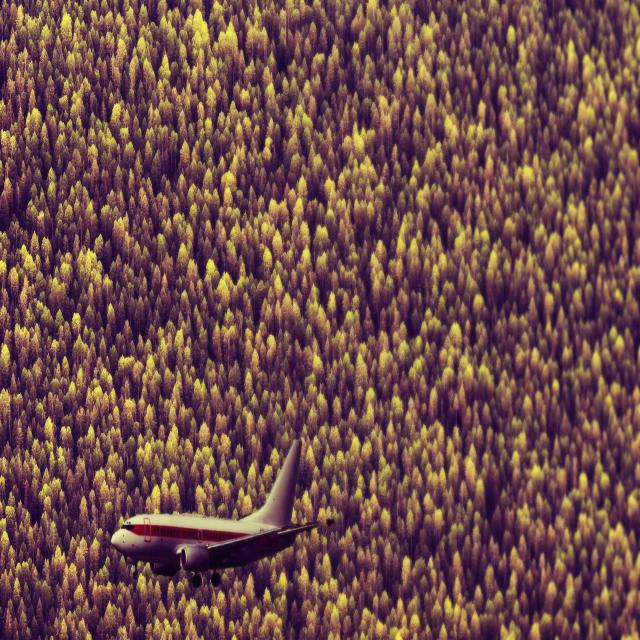airplane: (110, 437, 335, 586)
